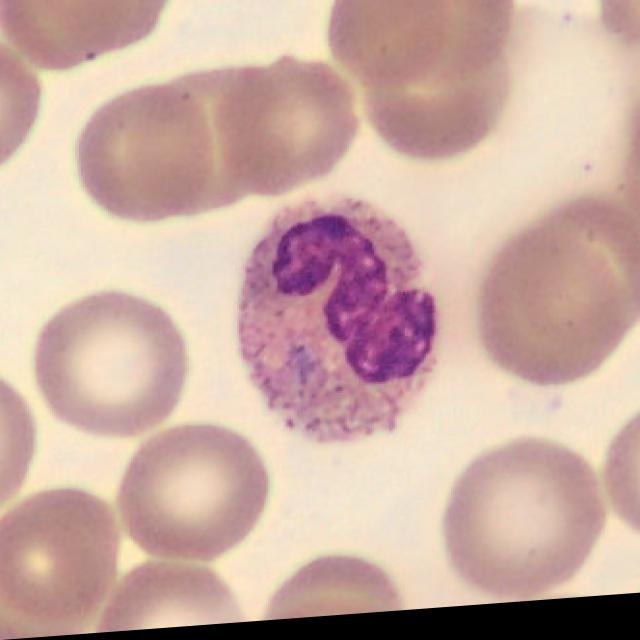Neutrofilo segmentado: (241, 208, 434, 447)
